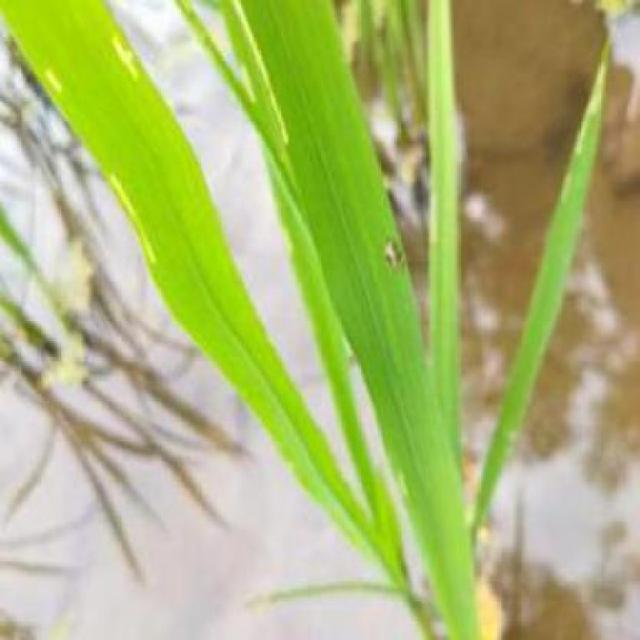rice-bug: (380, 234, 403, 274)
